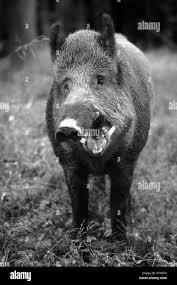wildboar: (44, 10, 157, 245)
